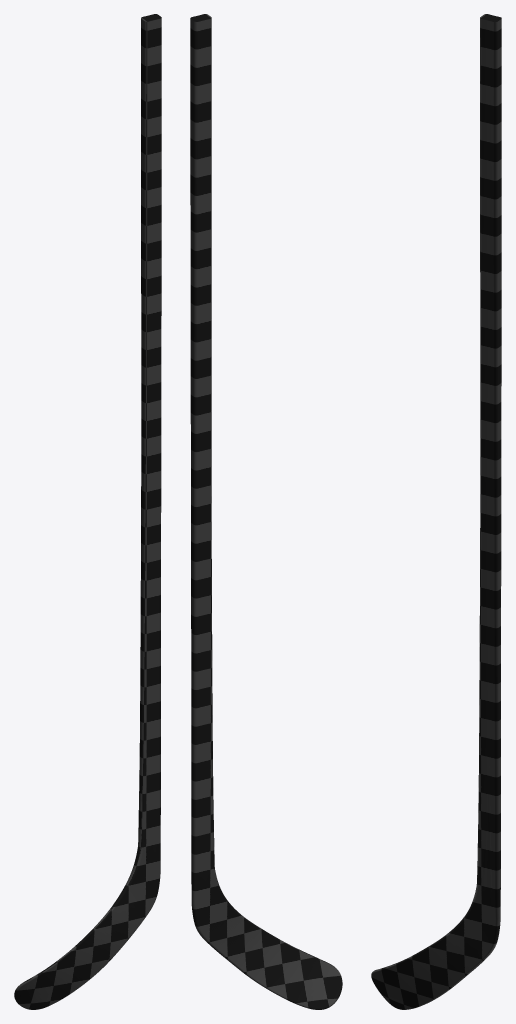
File: P90-SBT.glb
3 renders of one model, left to right at view 1: azimuth 30°, elevation 25°; view 2: azimuth 210°, elevation 25°; view 3: azimuth 330°, elevation 25°, orthographic. The views are drawn at different scales.
Parts seen in each view (by area): view 1: geometry_0; view 2: geometry_0; view 3: geometry_0.
Boxes of the visible parts, <box> form: geometry_0: <box>14,14,161,1009</box>; geometry_0: <box>190,14,342,1009</box>; geometry_0: <box>371,14,501,1009</box>.
Bounding box in the file's own units: 235 × 1650 × 57.24.
Materials: 1 (1 with a texture image).
